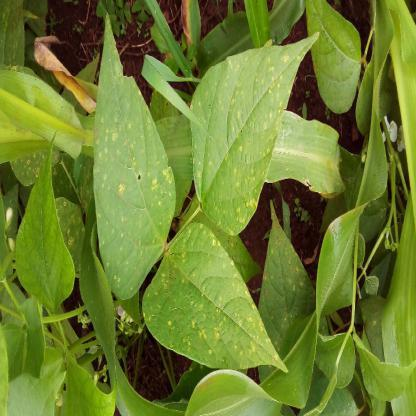Beans_Rust: (194, 34, 324, 235), (94, 12, 176, 299), (139, 224, 286, 373), (248, 200, 316, 353), (48, 199, 88, 281), (8, 146, 66, 188)
